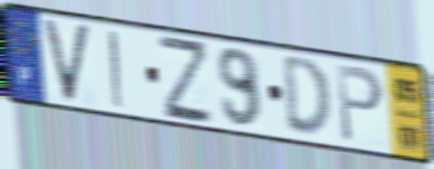9: (215, 45, 266, 131)
D: (280, 55, 335, 142)
I: (105, 28, 127, 112)
P: (334, 61, 386, 147)
V: (39, 15, 94, 107)
Z: (154, 31, 217, 127)
